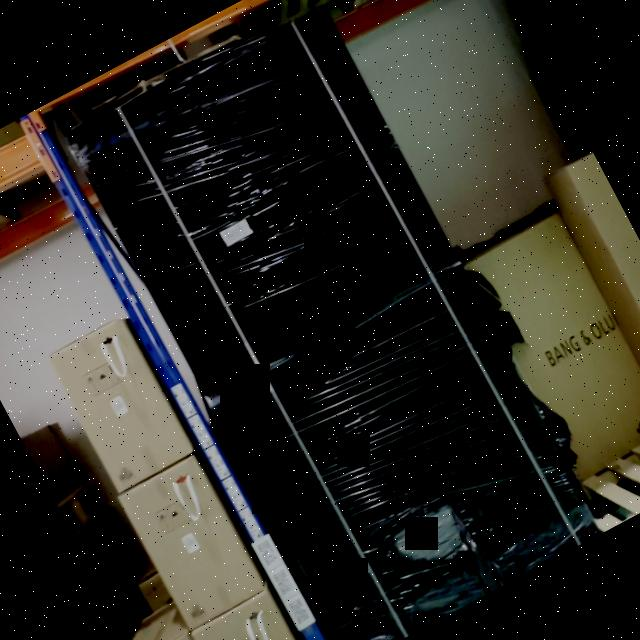box: (73, 7, 597, 640)
